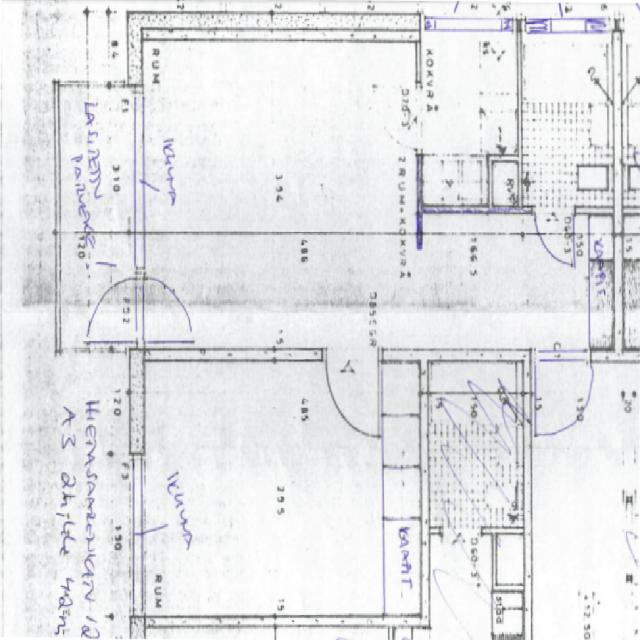door: (534, 349, 588, 435), (326, 349, 378, 435), (87, 278, 142, 343), (134, 278, 188, 343), (372, 86, 421, 147), (534, 206, 574, 269)
